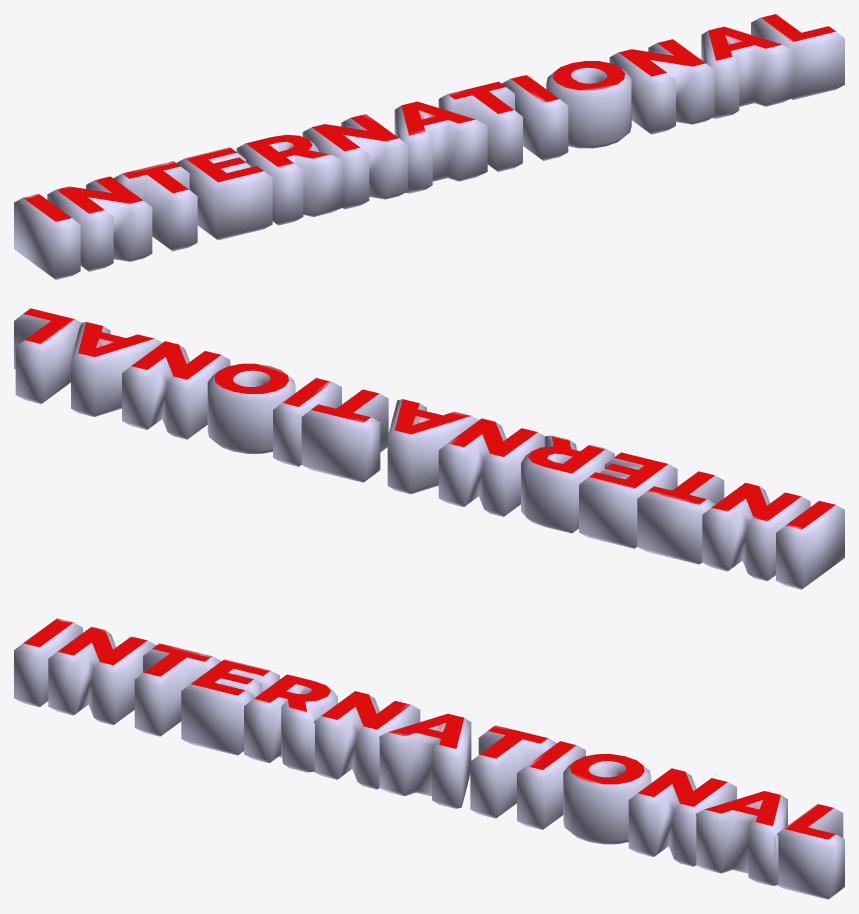
The model's file is Labels.fbx.
3 views of the same model, one above another, from view 1: azimuth 30°, elevation 25°; view 2: azimuth 150°, elevation 25°; view 3: azimuth 330°, elevation 25° (orthographic). The views are drawn at different scales.
Parts seen in each view (by area): view 1: Text; view 2: Text; view 3: Text.
Boxes of the visible parts, x1,y1,x2,y2 form: Text: [14, 14, 844, 279]; Text: [14, 308, 844, 589]; Text: [14, 618, 844, 899].
Size of the model in its own units: 714 by 50 by 63.84.
1 material, 1 textured.
